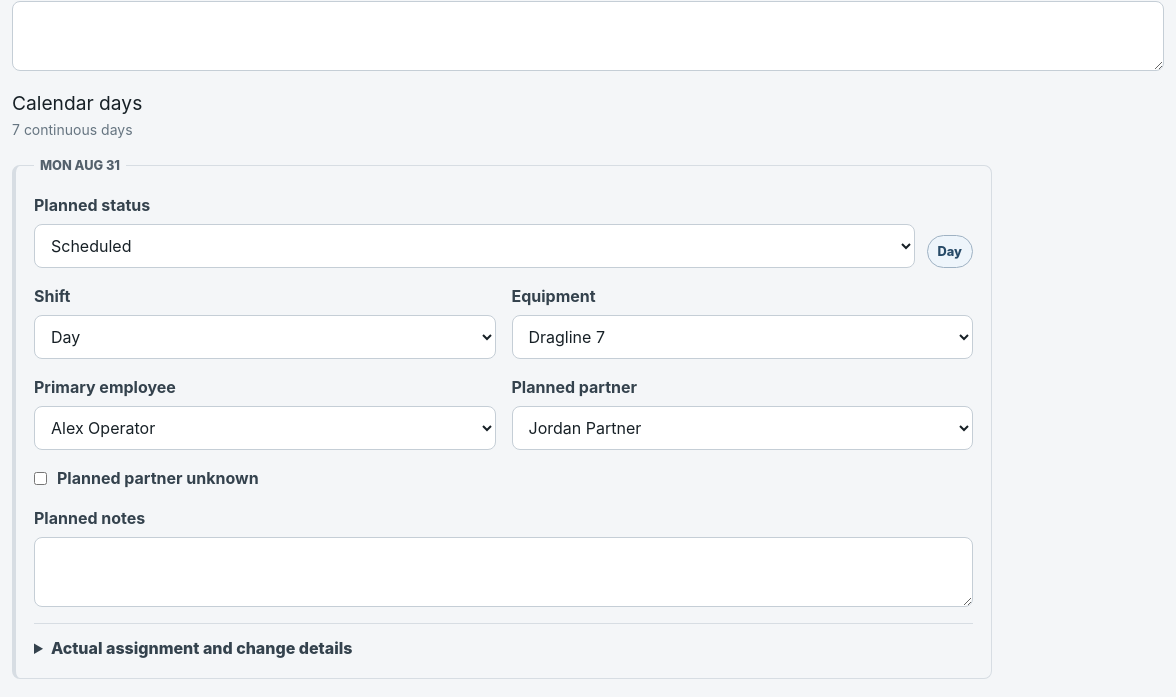
Test: ScheduleRangeForm › preserves dirty visible rows while adjacent dates hydrate
(page scrolled)
Select "Night" in the dropdown labelled "Shift": (265, 337) [34,315,496,359]
(page scrolled)
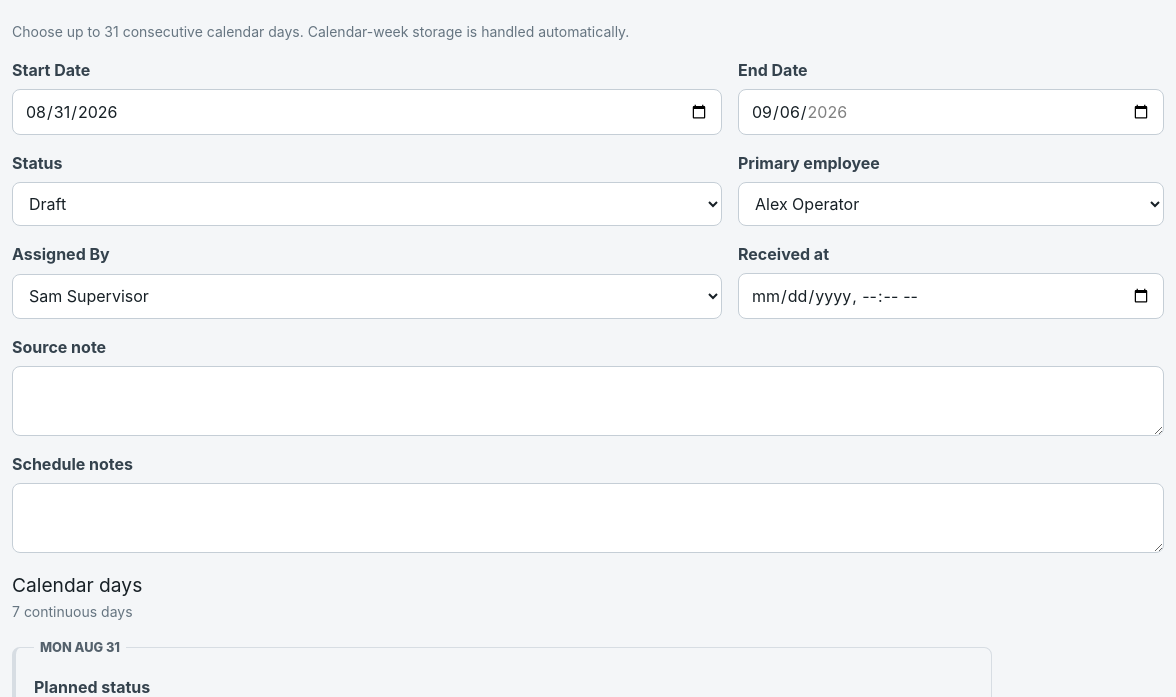
In the date field labelled "End Date": (951, 112) [738,89,1164,135], type "2026-09-08"
(page scrolled)
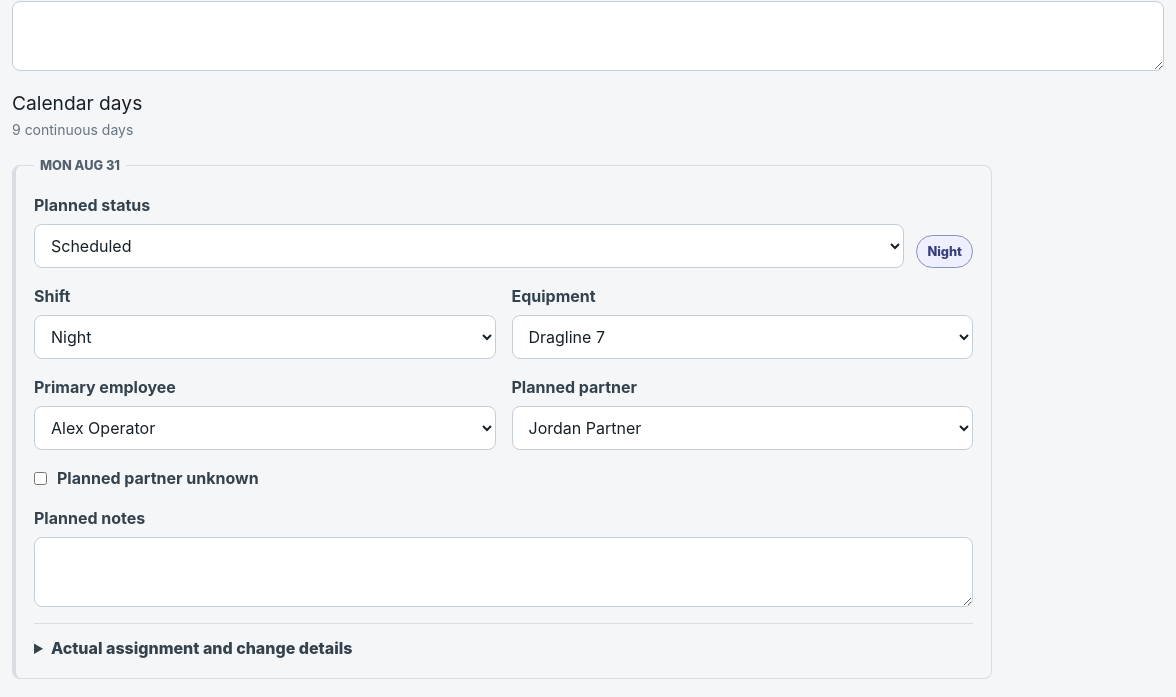
Expected: the text "9 continuous days" is shown, [12,119,142,140]
